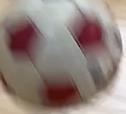Sports-Ball: (5, 2, 116, 99)
